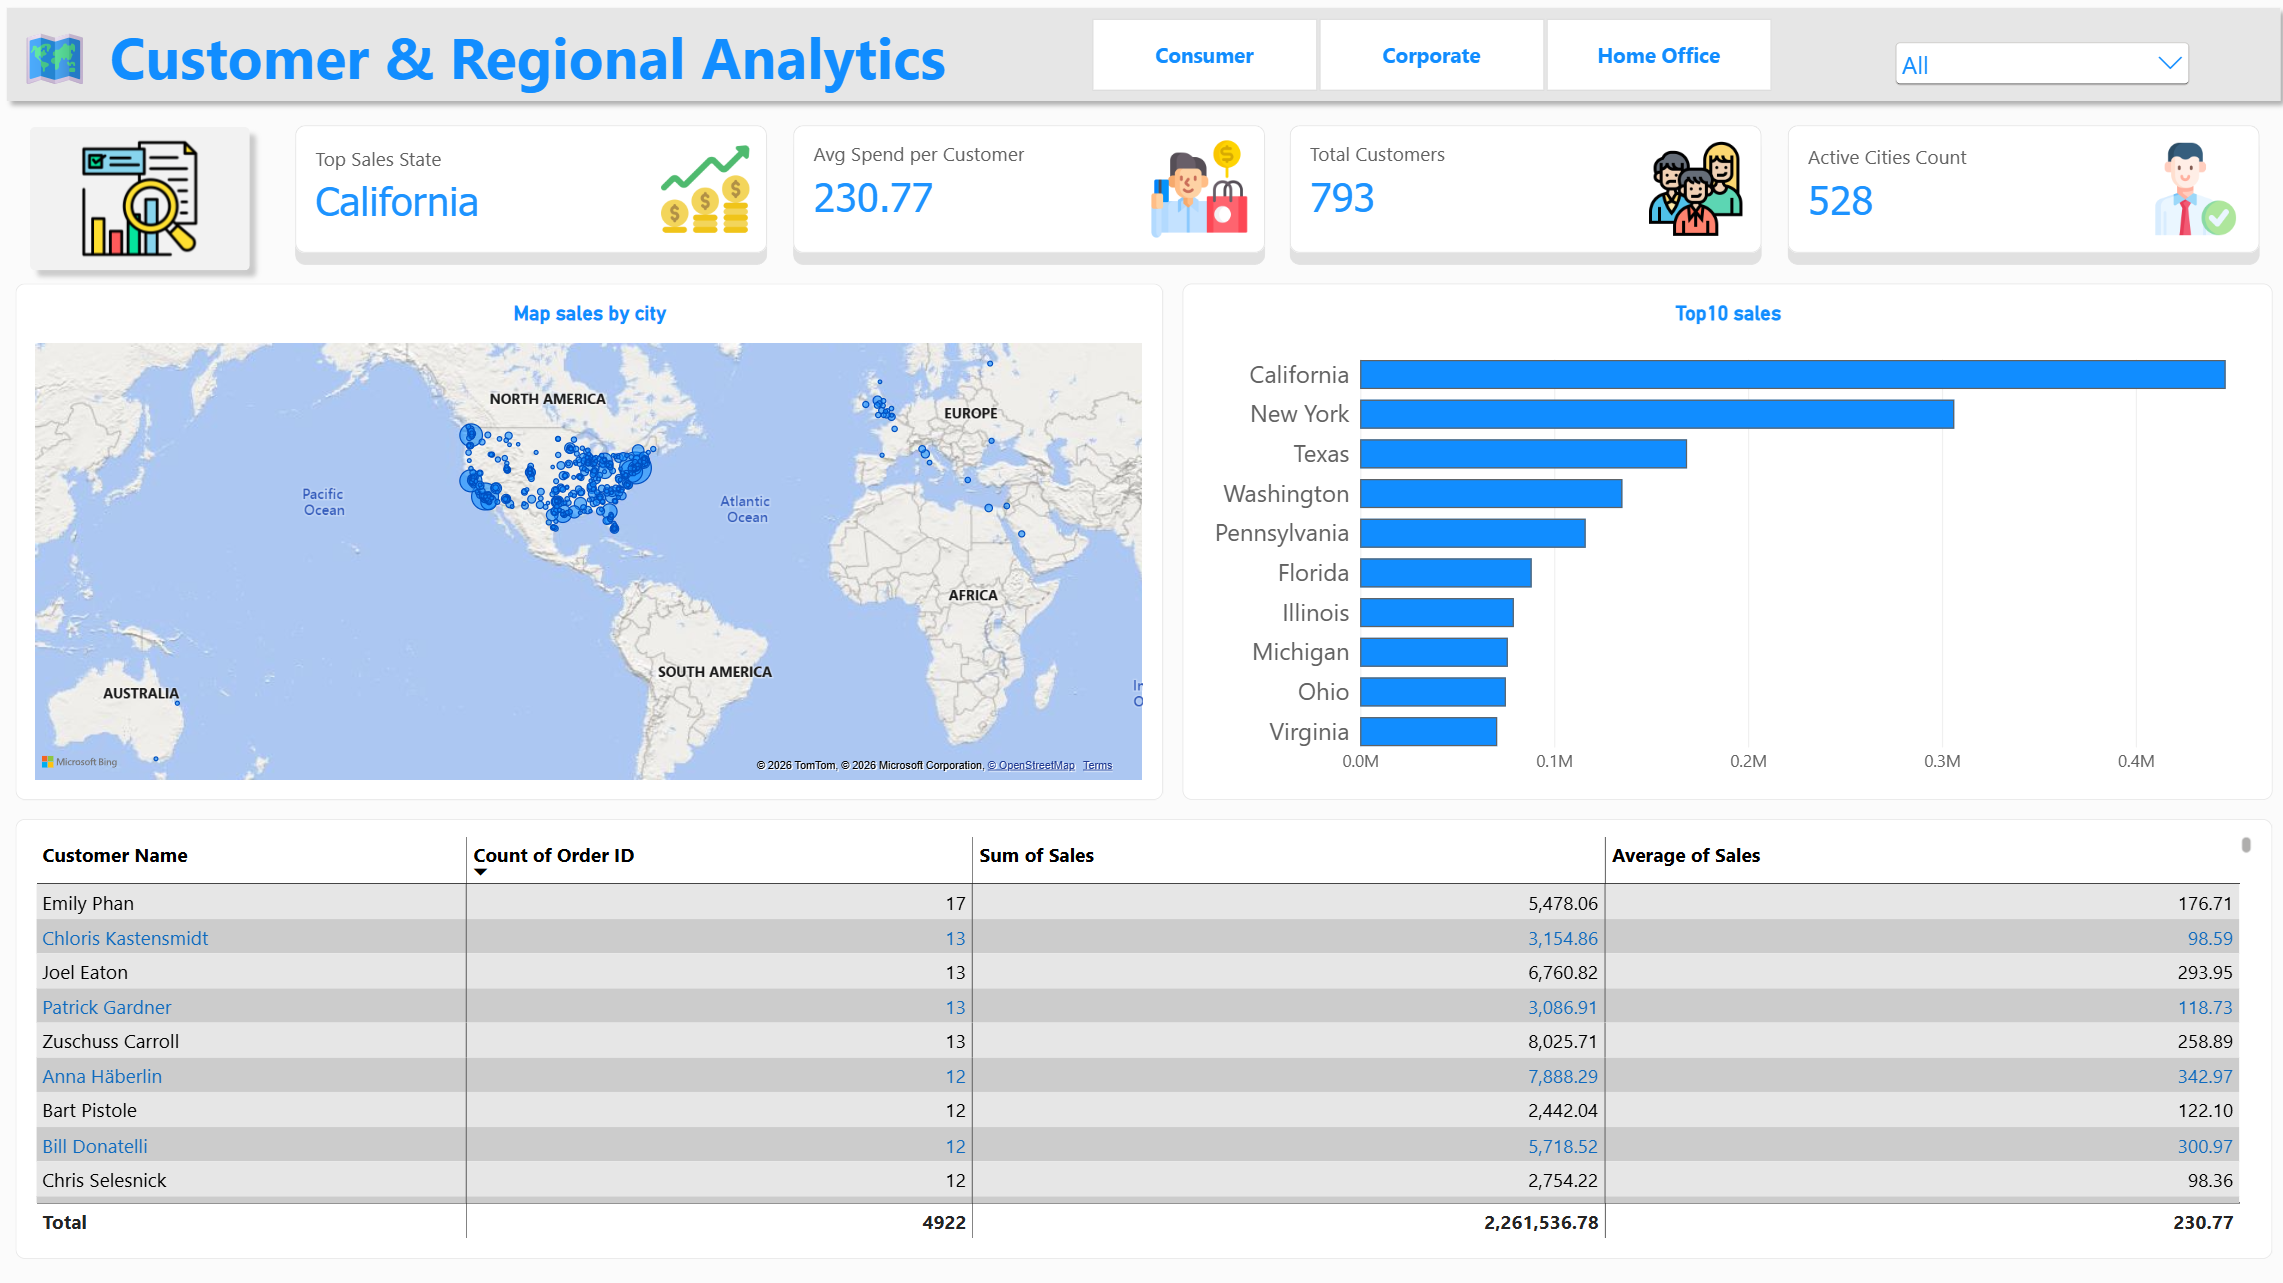

The dashboard page shown, as its layout file describes it:
{"tool":"powerbi","page":{"name":"Customers & Map","canvas":[1920,1080],"ordinal":2},"visuals":[{"type":"shape","box":[0,0,1920,96],"z":0},{"type":"textbox","box":[16,16,784,64],"z":1000},{"type":"cardVisual","fields":{"Data":["Count(Dim_Customer.Customer ID)"]},"box":[288,112,400,144],"z":2000},{"type":"cardVisual","fields":{"Data":["select","Count(Dim_Region.City)"]},"box":[1488,112,416,144],"z":3000},{"type":"cardVisual","fields":{"Data":["Avg(Fact_Sales.Sales)"]},"box":[688,112,400,144],"z":4000},{"type":"slicer","fields":{"Values":["Dim_Region.Region"]},"box":[1568,32,272,48],"z":5000},{"type":"slicer","fields":{"Values":["Dim_Customer.Segment"]},"box":[896,16,608,64],"z":6000},{"type":"cardVisual","fields":{"Data":["Min(Dim_Region.State)"]},"box":[1088,112,400,144],"z":7000},{"type":"map","title":"Map sales by city","fields":{"Category":["Dim_Region.City"],"Size":["Sum(Fact_Sales.Sales)"]},"box":[16,272,960,416],"z":8000},{"type":"clusteredBarChart","title":"Top10 sales","fields":{"Category":["Dim_Region.State"],"Y":["Sum(Fact_Sales.Sales)"]},"box":[992,272,912,416],"z":9000},{"type":"tableEx","fields":{"Values":["Dim_Customer.Customer Name","Fact_Sales.Order ID","Sum(Fact_Sales.Sales)","Avg(Fact_Sales.Sales)"]},"box":[16,704,1888,352],"z":10000},{"type":"actionButton","box":[16,112,224,144],"z":11000}]}

Visuals, with their boxes in screenshot pixels (x1, y1, x2, y2), scaled from the page's 1920x1080 canvas onto the 2283x1283 screenshot:
shape: locate(0, 0, 2282, 114)
textbox: locate(19, 19, 951, 95)
cardVisual - Count(Dim_Customer.Customer ID): locate(342, 133, 818, 304)
cardVisual - select x Count(Dim_Region.City): locate(1769, 133, 2264, 304)
cardVisual - Avg(Fact_Sales.Sales): locate(818, 133, 1294, 304)
slicer - Dim_Region.Region: locate(1864, 38, 2188, 95)
slicer - Dim_Customer.Segment: locate(1065, 19, 1788, 95)
cardVisual - Min(Dim_Region.State): locate(1294, 133, 1769, 304)
"Map sales by city" map: locate(19, 323, 1161, 817)
"Top10 sales" clusteredBarChart: locate(1180, 323, 2264, 817)
tableEx - Dim_Customer.Customer Name x Fact_Sales.Order ID: locate(19, 836, 2264, 1254)
actionButton: locate(19, 133, 285, 304)
